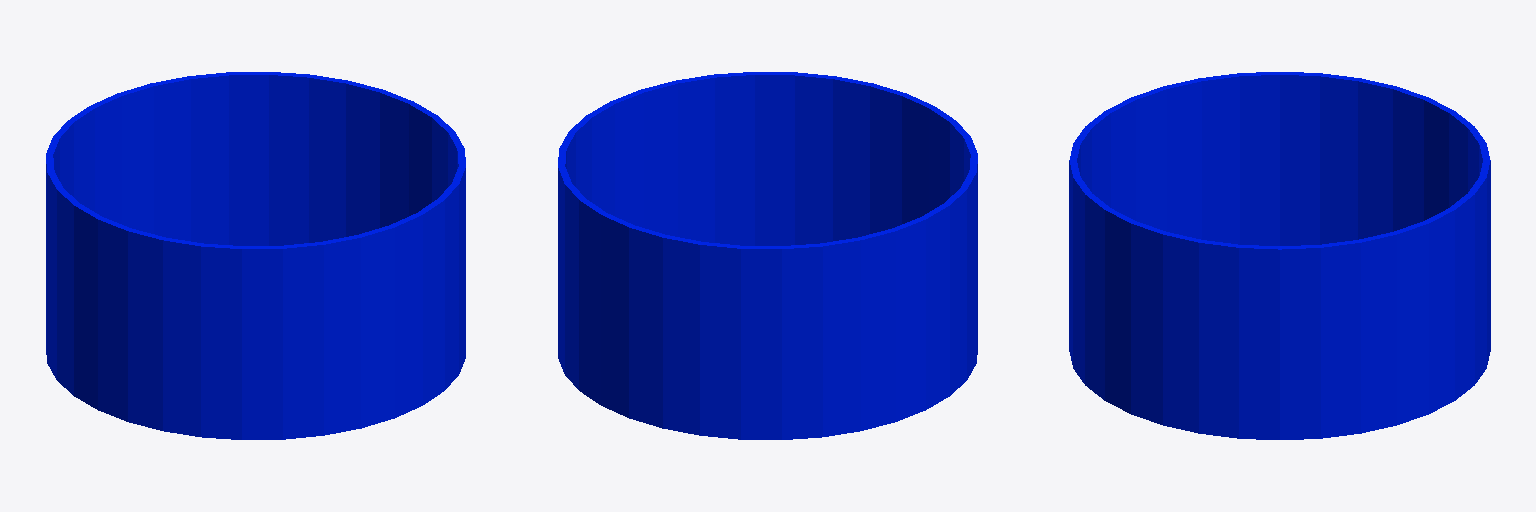
Rendered from Lift.obj.
The picture shows the model from 3 angles: view 1: azimuth 30°, elevation 25°; view 2: azimuth 150°, elevation 25°; view 3: azimuth 270°, elevation 25°; orthographic projection.
Parts seen in each view (by area): view 1: Cylinder; view 2: Cylinder; view 3: Cylinder.
Boxes of the visible parts, x1,y1,x2,y2 form: Cylinder: [46, 72, 465, 439]; Cylinder: [558, 72, 977, 439]; Cylinder: [1069, 72, 1490, 439].
Size of the model in its own units: 2 by 1 by 2.